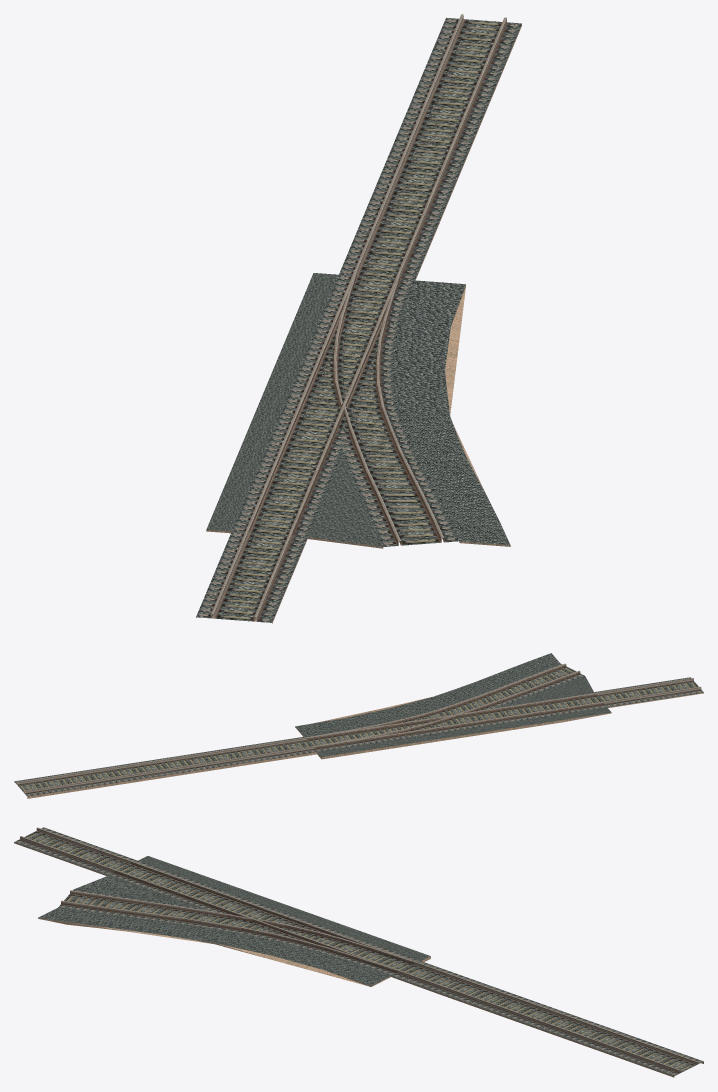
Rendered from vgsrailroad22.obj.
3 views of the same model, one above another, from view 1: azimuth 30°, elevation 25°; view 2: azimuth 150°, elevation 25°; view 3: azimuth 270°, elevation 25° (orthographic). The views are drawn at different scales.
Visible parts, largest first — view 1: vgsrailroad22; view 2: vgsrailroad22; view 3: vgsrailroad22.
Boxes of the visible parts, <box> form: vgsrailroad22: <box>196,14,521,623</box>; vgsrailroad22: <box>14,653,703,798</box>; vgsrailroad22: <box>14,827,703,1077</box>.
Bounding box in the file's own units: 38.29 × 0.3948 × 44.83.
3 materials, 3 textured.
